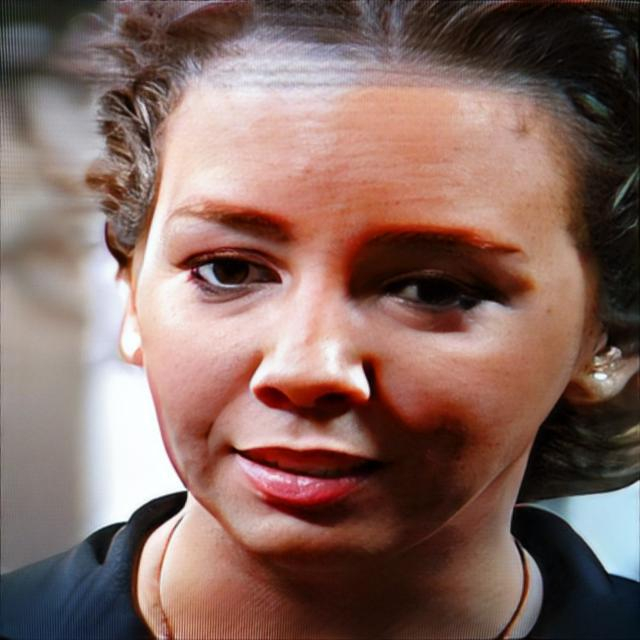sad: (138, 33, 572, 567)
